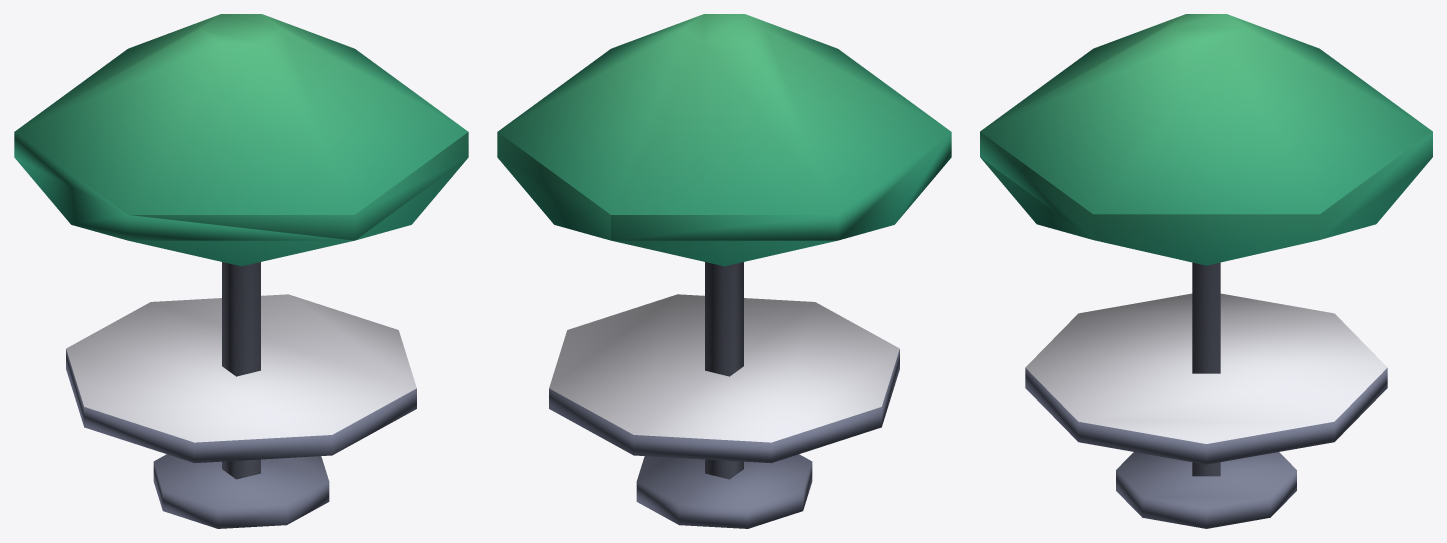
File: detail-parasol-b_lev1.glb
3 views of the same model, side by side, from view 1: azimuth 30°, elevation 25°; view 2: azimuth 150°, elevation 25°; view 3: azimuth 270°, elevation 25° (orthographic).
Parts seen in each view (by area): view 1: detail-parasol-b_lev1; view 2: detail-parasol-b_lev1; view 3: detail-parasol-b_lev1.
Boxes of the visible parts, x1=… form: detail-parasol-b_lev1: x1=14, y1=14, x2=468, y2=528; detail-parasol-b_lev1: x1=497, y1=14, x2=951, y2=528; detail-parasol-b_lev1: x1=980, y1=14, x2=1432, y2=528.
Size of the model in its own units: 0.3464 by 0.45 by 0.4.
Materials: 1 (1 with a texture image).
